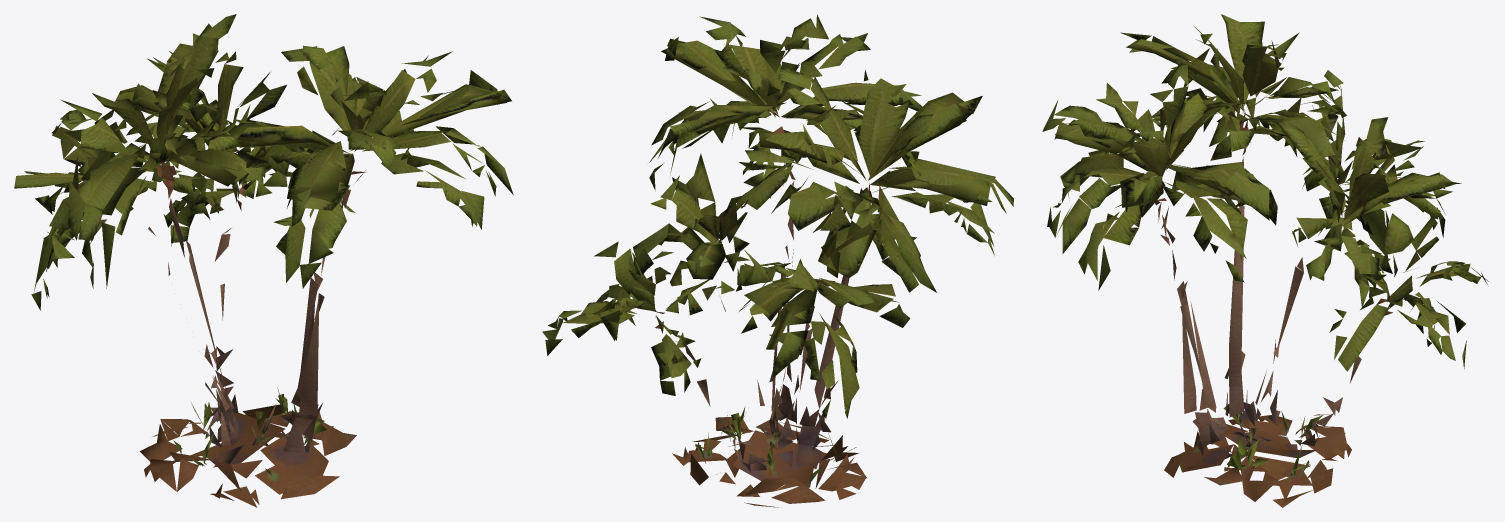
Rendered from jun_leaning_palm_cluster_LOD3.glb.
The picture shows the model from 3 angles, left to right: view 1: azimuth 30°, elevation 25°; view 2: azimuth 150°, elevation 25°; view 3: azimuth 270°, elevation 25°; orthographic projection. The views are drawn at different scales.
Visible parts, largest first — view 1: tripo_node_82022841-fae1-4120-8960-4bbcf65c6de9; view 2: tripo_node_82022841-fae1-4120-8960-4bbcf65c6de9; view 3: tripo_node_82022841-fae1-4120-8960-4bbcf65c6de9.
Part boxes in pixels (box(x1,y1,x2,y2)): tripo_node_82022841-fae1-4120-8960-4bbcf65c6de9: box(14, 14, 513, 507); tripo_node_82022841-fae1-4120-8960-4bbcf65c6de9: box(542, 14, 1013, 507); tripo_node_82022841-fae1-4120-8960-4bbcf65c6de9: box(1042, 14, 1488, 507).
Bounding box in the file's own units: 0.9518 × 1.04 × 0.9811.
Materials: 1 (1 with a texture image).
